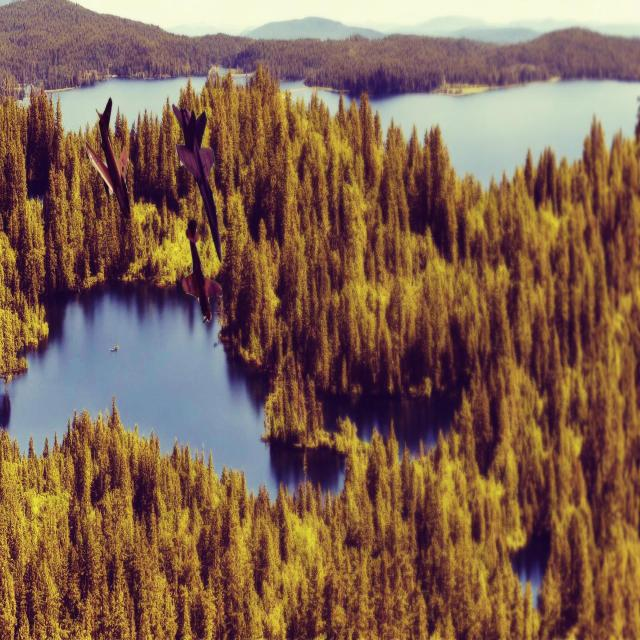airplane: (171, 103, 222, 263), (85, 96, 131, 219)
